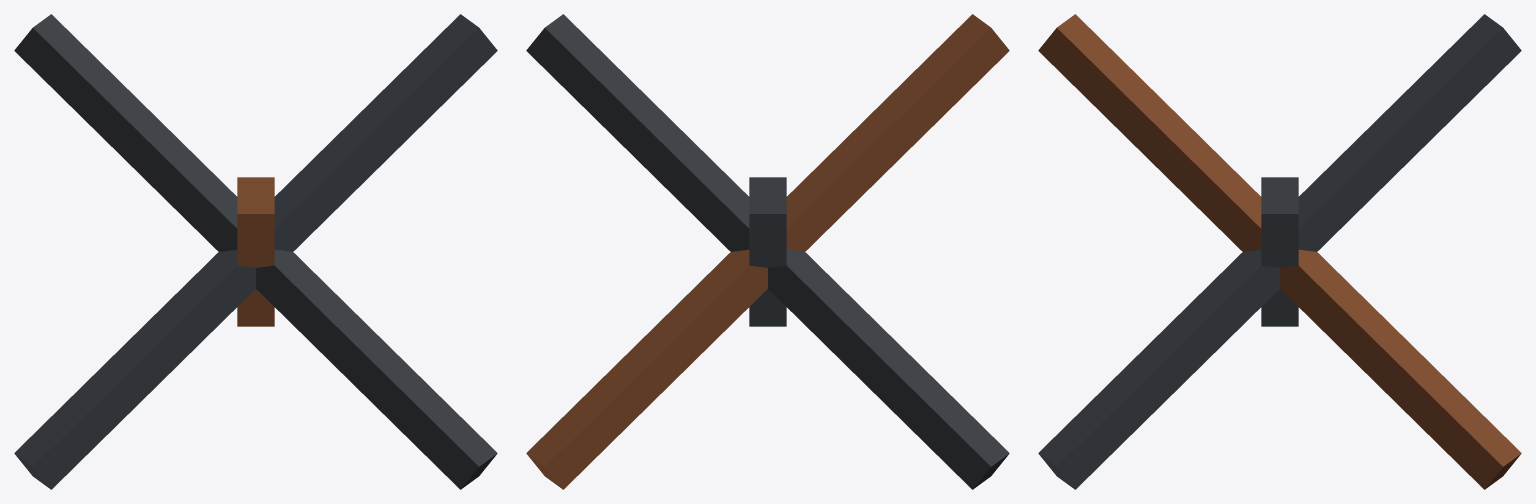
Rendered from hedgehog.glb.
3 views of the same model, side by side, from view 1: azimuth 30°, elevation 25°; view 2: azimuth 150°, elevation 25°; view 3: azimuth 270°, elevation 25° (orthographic).
Parts seen in each view (by area): view 1: hedgehog; view 2: hedgehog; view 3: hedgehog.
Boxes of the visible parts, <box> form: hedgehog: <box>14,14,497,489</box>; hedgehog: <box>526,14,1009,489</box>; hedgehog: <box>1038,14,1521,489</box>.
Size of the model in its own units: 1.87 by 1.38 by 1.69.
